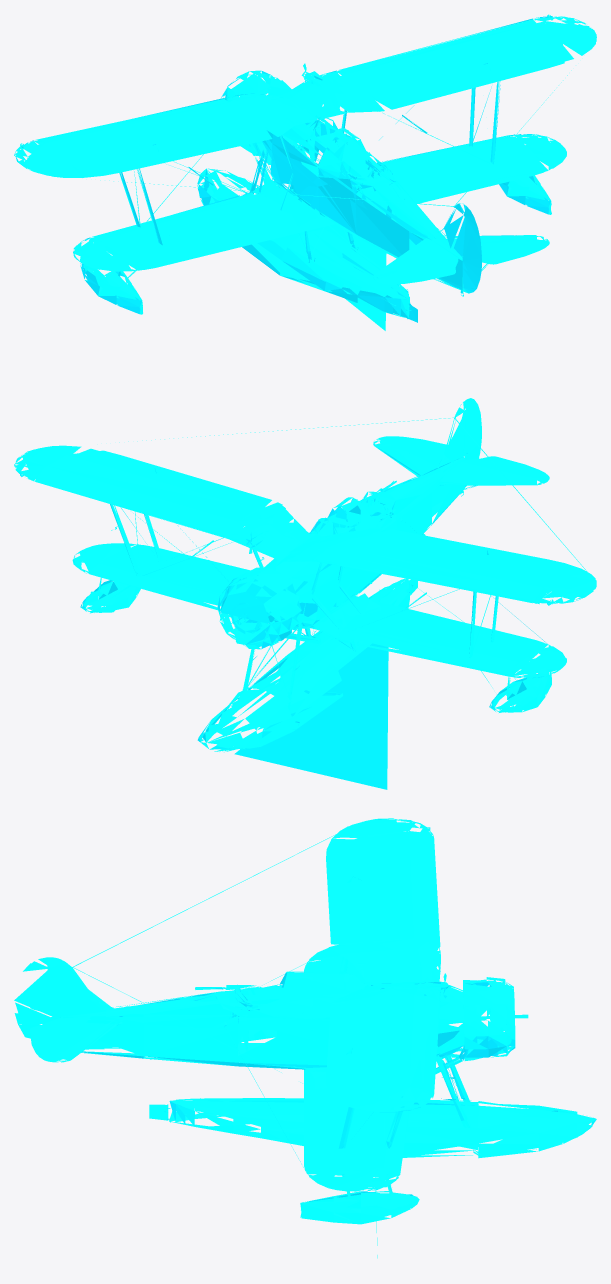
The model's file is PIAS003.glb.
3 views of the same model, one above another, from view 1: azimuth 30°, elevation 25°; view 2: azimuth 150°, elevation 25°; view 3: azimuth 270°, elevation 25° (orthographic). The views are drawn at different scales.
Parts seen in each view (by area): view 1: misc; view 2: misc; view 3: misc.
Boxes of the visible parts, x1,y1,x2,y2 form: misc: (14, 14, 596, 330); misc: (14, 398, 596, 789); misc: (14, 818, 596, 1258).
Size of the model in its own units: 0.77 by 0.3348 by 0.6475.
